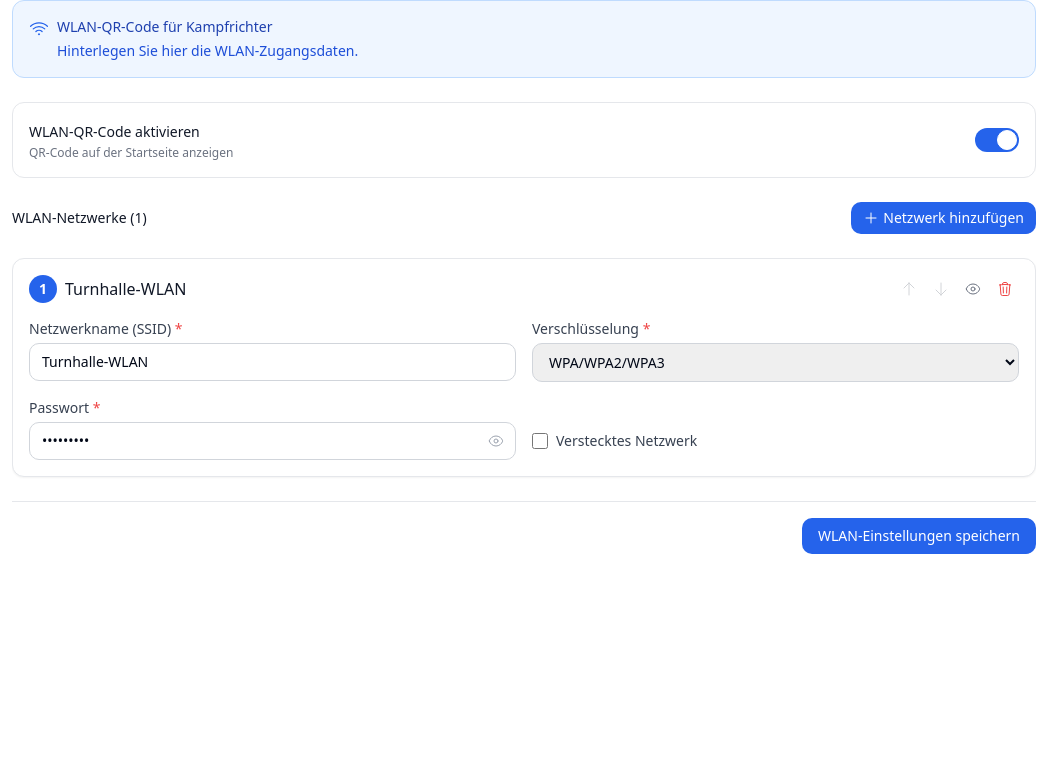
Test: WifiSettings Component › can remove a network
Check: the field showing "Turnhalle-WLAN" is shown, box left=29, top=343, right=516, bottom=381
# Click remove button
Step 1. Click the button titled "Netzwerk entfernen" → (1005,289), box left=991, top=275, right=1019, bottom=303
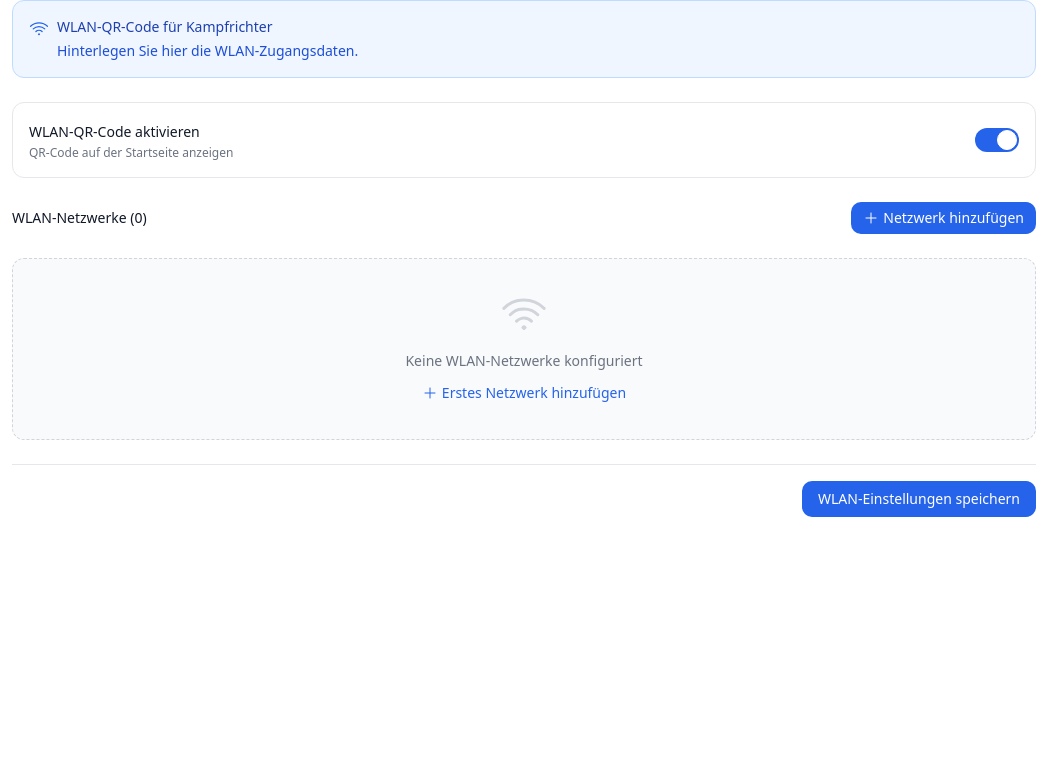
Check: the text showing "Turnhalle-WLAN" is gone
